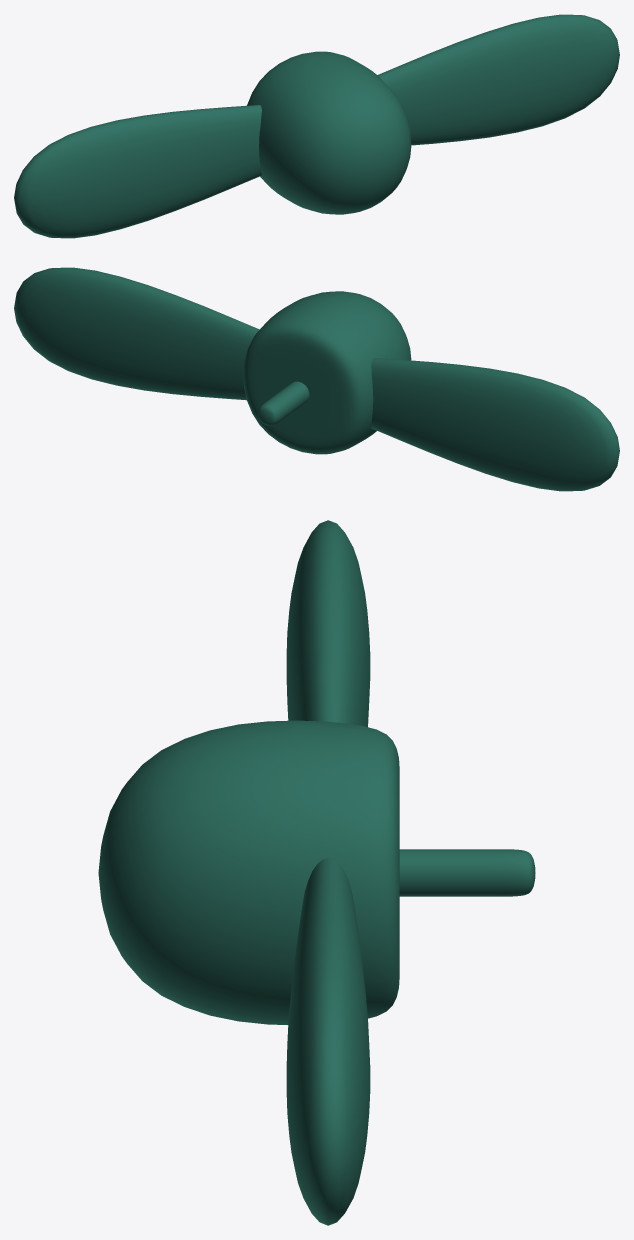
Rendered from blade.glb.
The picture shows the model from 3 angles, top to bottom: view 1: azimuth 30°, elevation 25°; view 2: azimuth 150°, elevation 25°; view 3: azimuth 270°, elevation 25°; orthographic projection. The views are drawn at different scales.
Visible parts, largest first — view 1: blade; view 2: blade; view 3: blade.
Part boxes in pixels (x1,y1,x2,y2): blade: (14, 14, 619, 238); blade: (14, 267, 619, 491); blade: (98, 520, 535, 1225).
Bounding box in the file's own units: 4.64 × 1 × 1.45.
